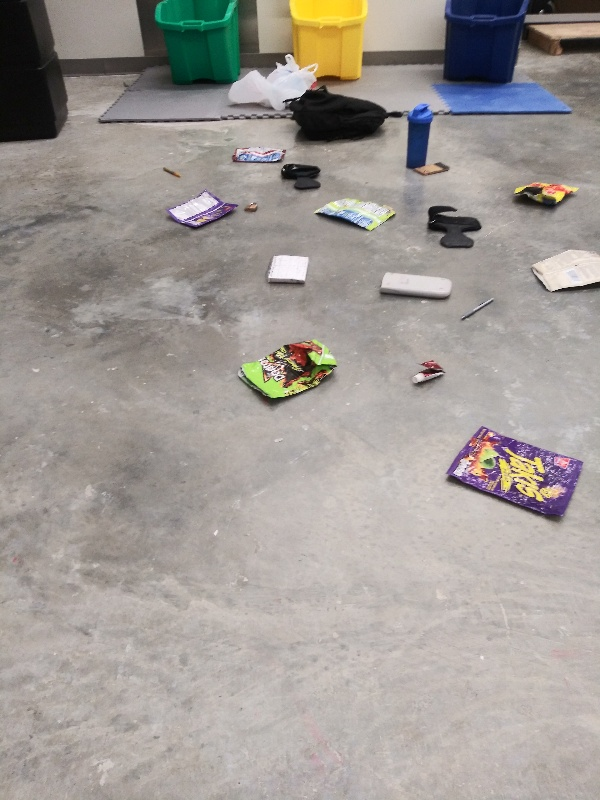bag: (441, 420, 586, 525), (234, 335, 338, 409), (527, 244, 600, 296), (311, 195, 399, 235), (166, 186, 242, 230), (509, 176, 584, 211), (228, 145, 290, 166)
